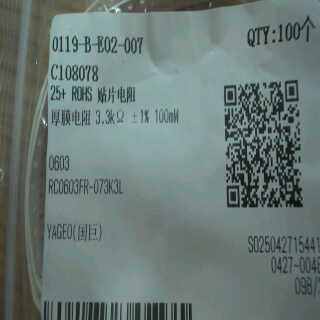3.3kO: (93, 106, 127, 134)
